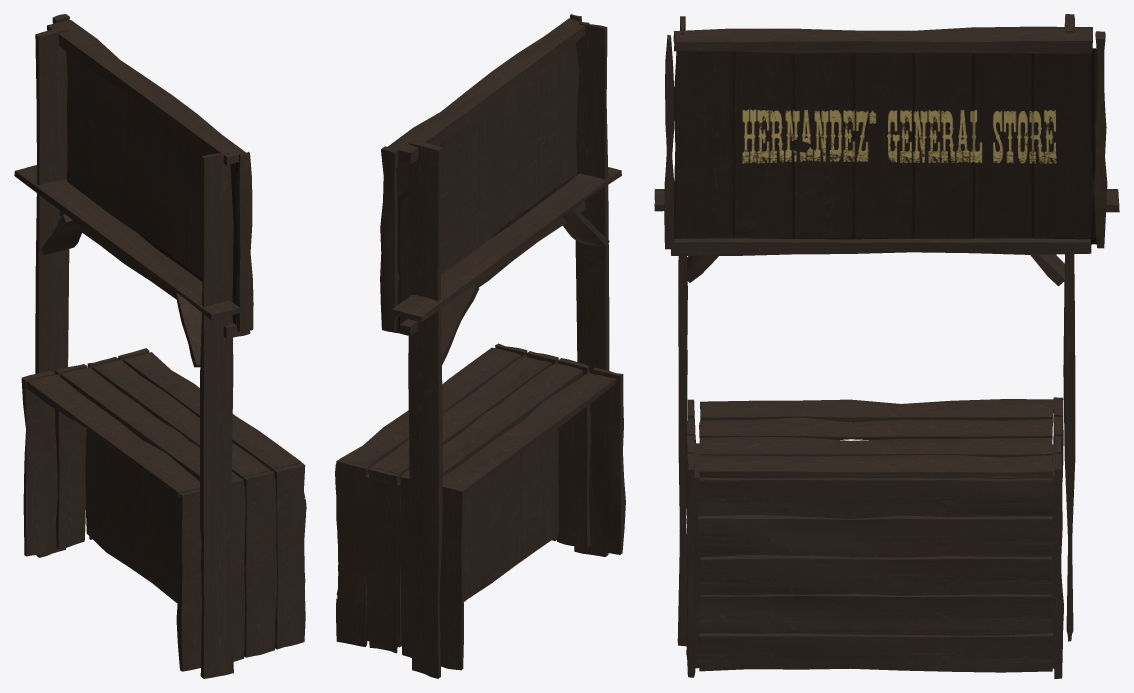
Rendered from kojuv2.fbx.
3 renders of one model, left to right at view 1: azimuth 30°, elevation 25°; view 2: azimuth 150°, elevation 25°; view 3: azimuth 270°, elevation 25°, orthographic. The views are drawn at different scales.
Visible parts, largest first — view 1: Cube.026; view 2: Cube.026; view 3: Cube.026.
Part boxes in pixels (x1=…): Cube.026: x1=14, y1=14, x2=306, y2=678; Cube.026: x1=335, y1=14, x2=625, y2=678; Cube.026: x1=654, y1=14, x2=1119, y2=678.
Size of the model in its own units: 147 by 563 by 386.
